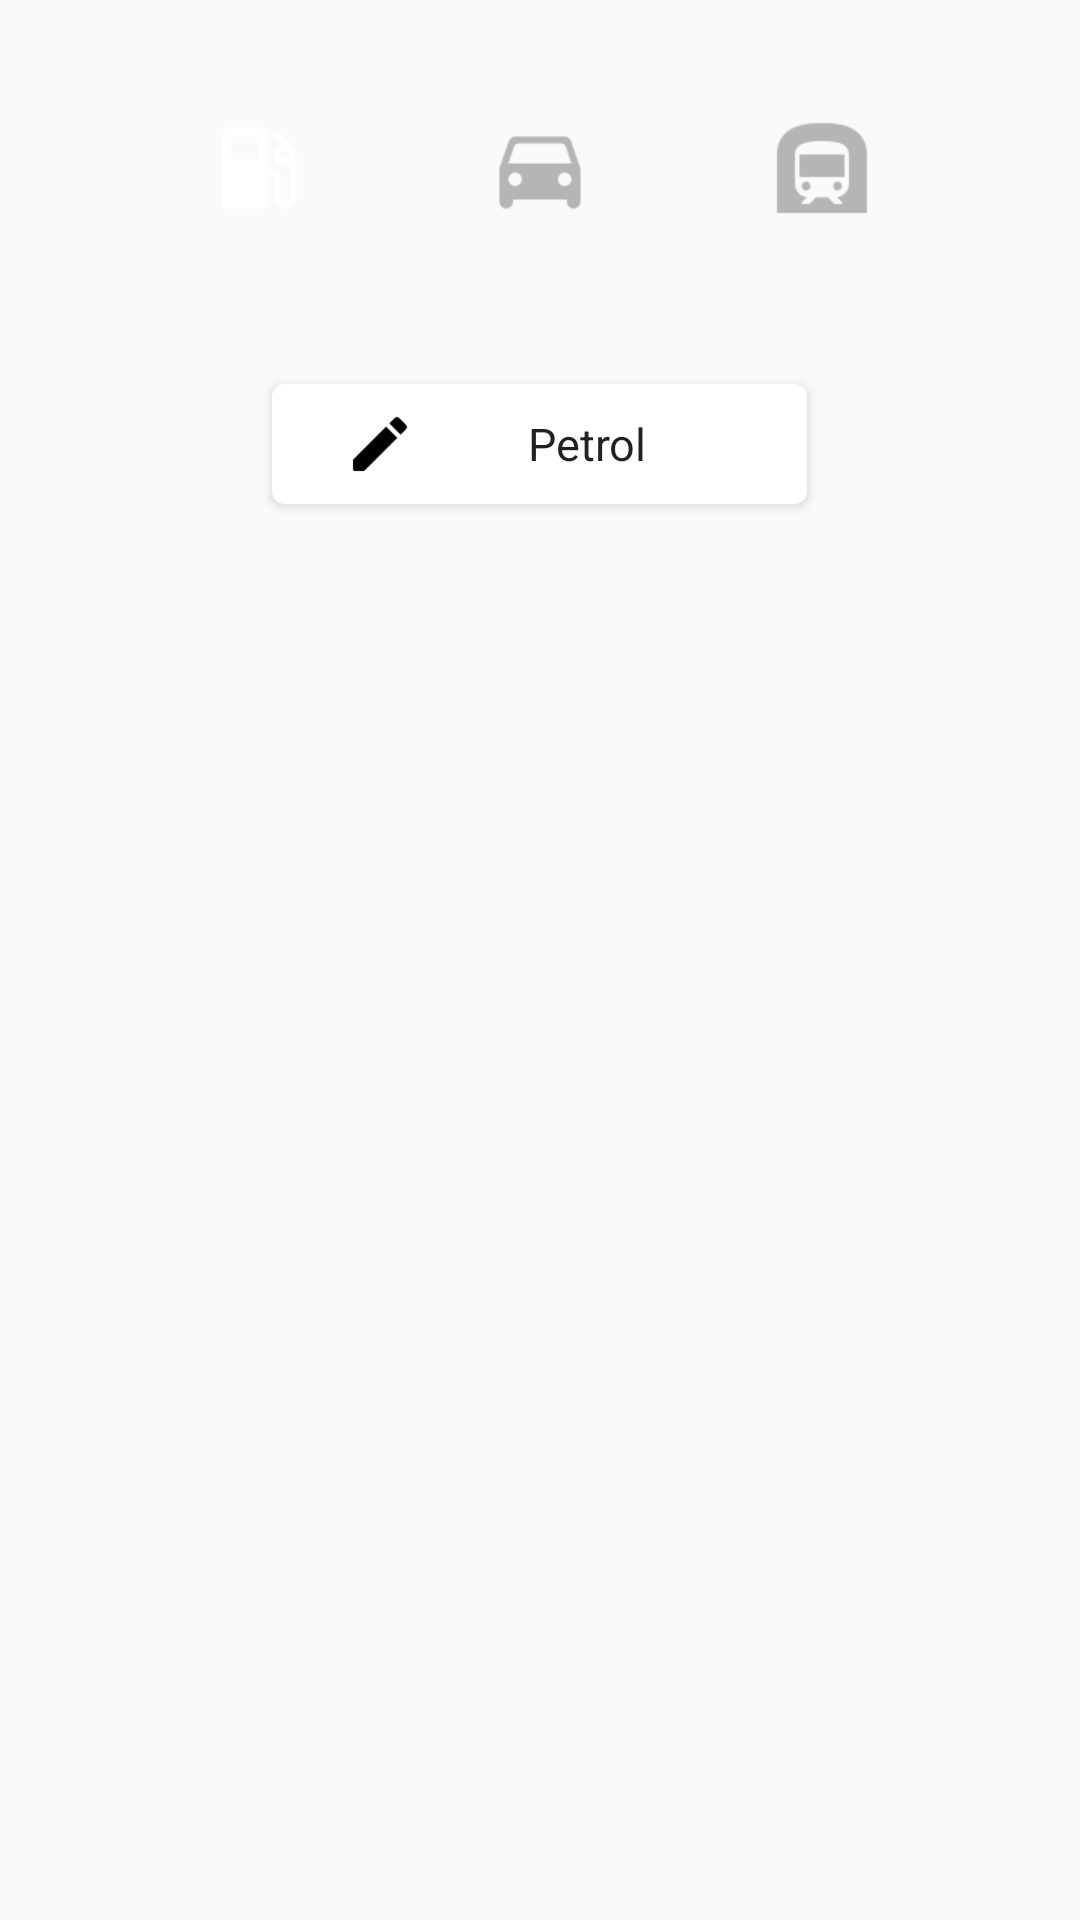

Where icons sit on this 1080*1920 app screen, as (x1, y1, x2, y2):
car: (499, 136, 581, 209)
subway: (777, 123, 867, 213)
